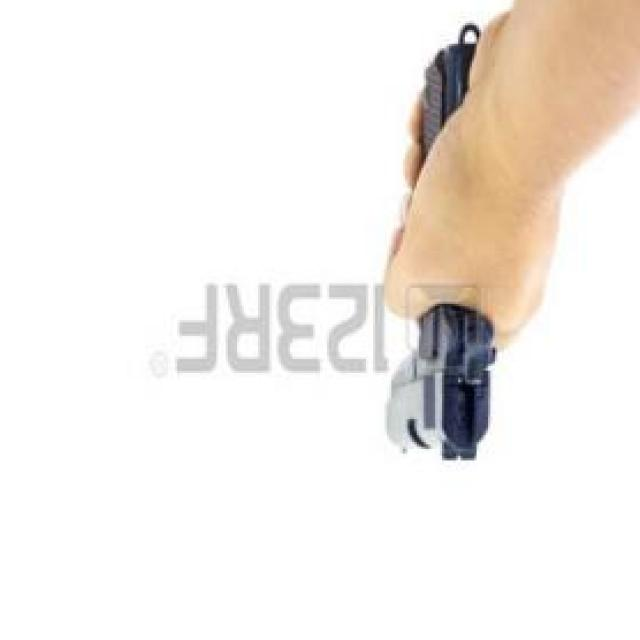pistol: (386, 44, 497, 465)
